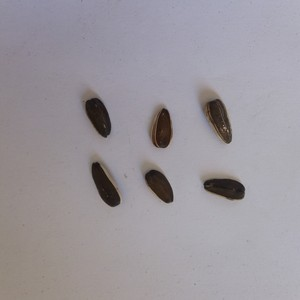girasol: (89, 159, 123, 208), (203, 97, 233, 145), (201, 175, 247, 203), (143, 168, 175, 206), (83, 97, 112, 138), (152, 106, 172, 150)
